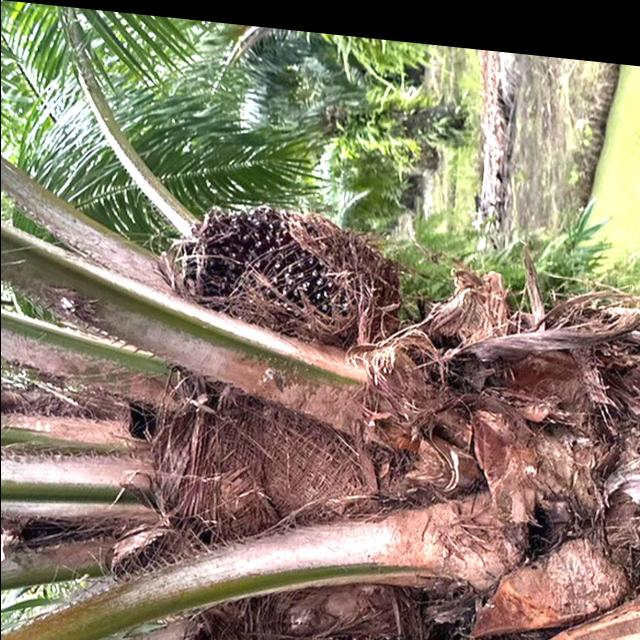ripe: (174, 186, 395, 350)
